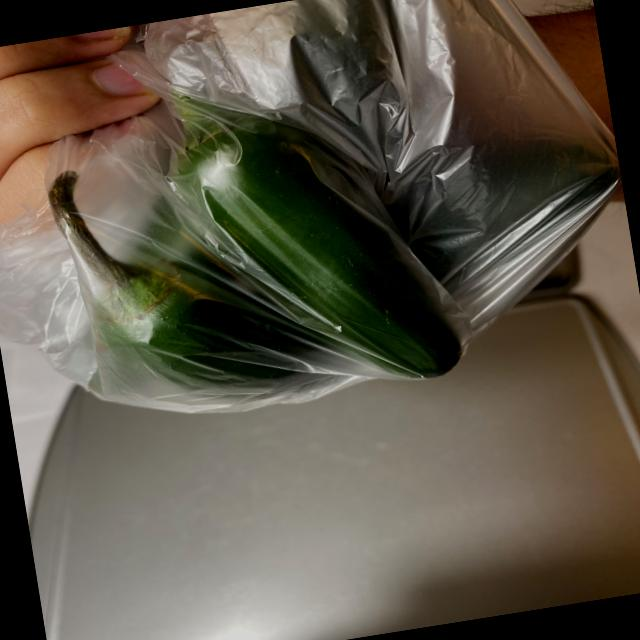chilli: (7, 0, 635, 449)
